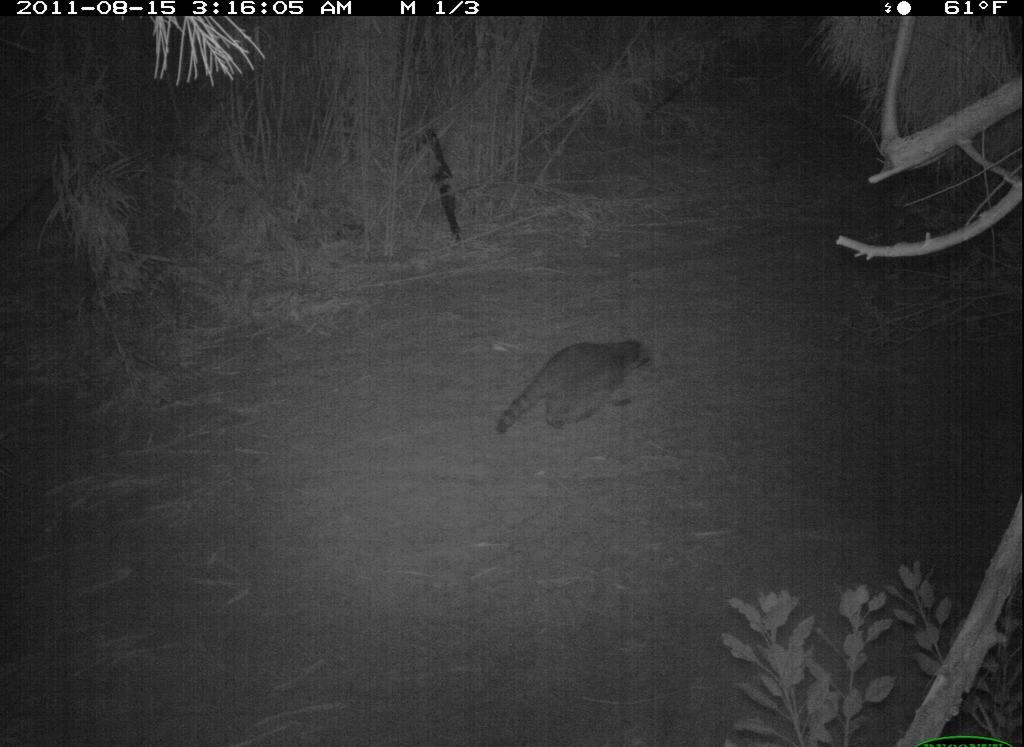raccoon: (491, 331, 667, 443)
